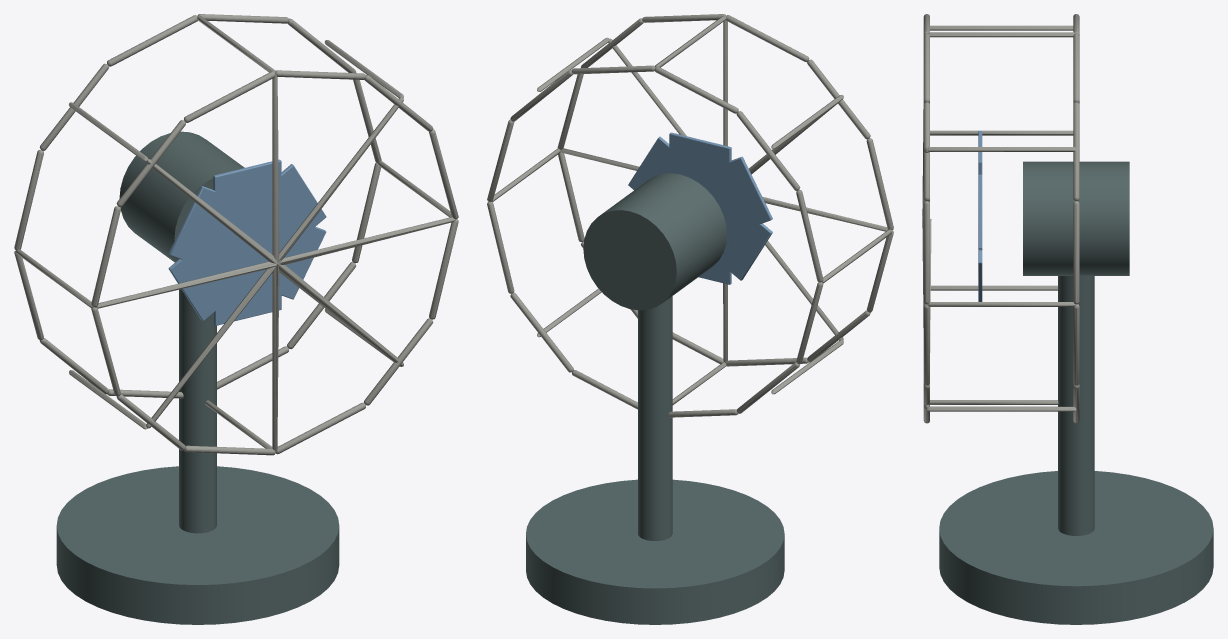
File: QuatBan_SatCu.glb
3 renders of one model, left to right at view 1: azimuth 30°, elevation 25°; view 2: azimuth 150°, elevation 25°; view 3: azimuth 270°, elevation 25°, orthographic. The views are drawn at different scales.
Parts seen in each view (by area): view 1: QuatBan_SatCu; view 2: QuatBan_SatCu; view 3: QuatBan_SatCu.
Part boxes in pixels (x1=…): QuatBan_SatCu: x1=14, y1=14, x2=458, y2=624; QuatBan_SatCu: x1=487, y1=14, x2=893, y2=624; QuatBan_SatCu: x1=922, y1=14, x2=1213, y2=624.
Bounding box in the file's own units: 0.385 × 0.5525 × 0.2728.
